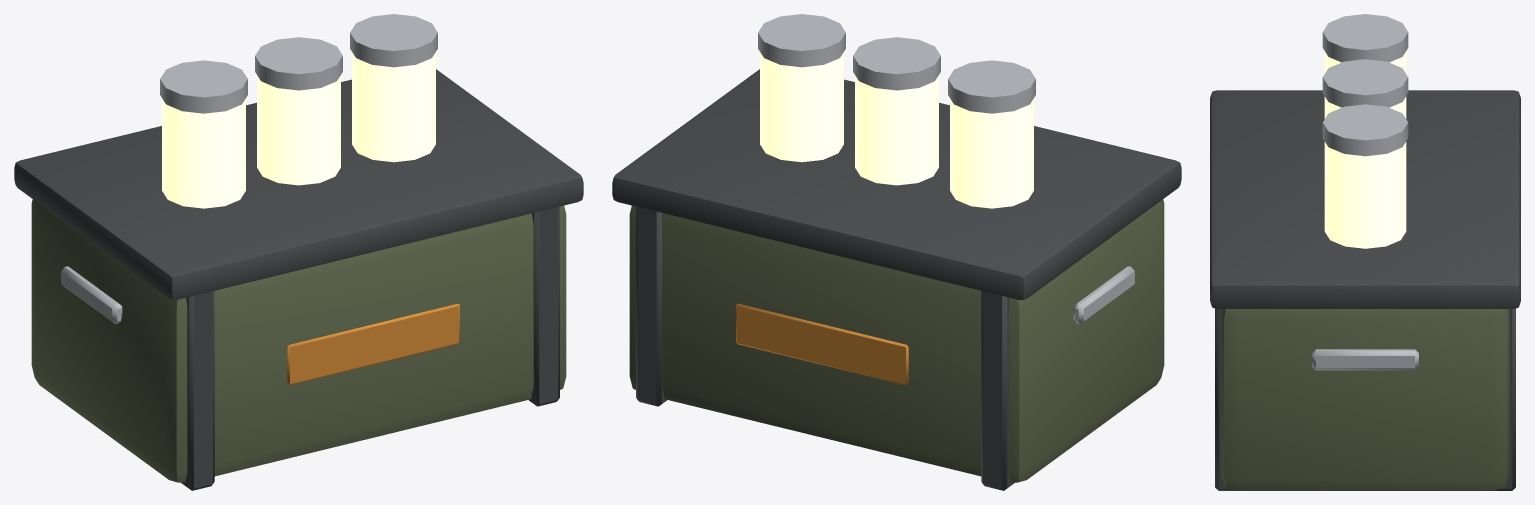
File: pk_ammo.glb
3 renders of one model, left to right at view 1: azimuth 30°, elevation 25°; view 2: azimuth 150°, elevation 25°; view 3: azimuth 270°, elevation 25°, orthographic. The views are drawn at different scales.
Visible parts, largest first — view 1: pk_ammo; view 2: pk_ammo; view 3: pk_ammo.
Part boxes in pixels (x1,y1,x2,y2): pk_ammo: (14, 14, 583, 490); pk_ammo: (612, 14, 1181, 490); pk_ammo: (1210, 14, 1520, 490).
Bounding box in the file's own units: 0.492 × 0.3715 × 0.32.
